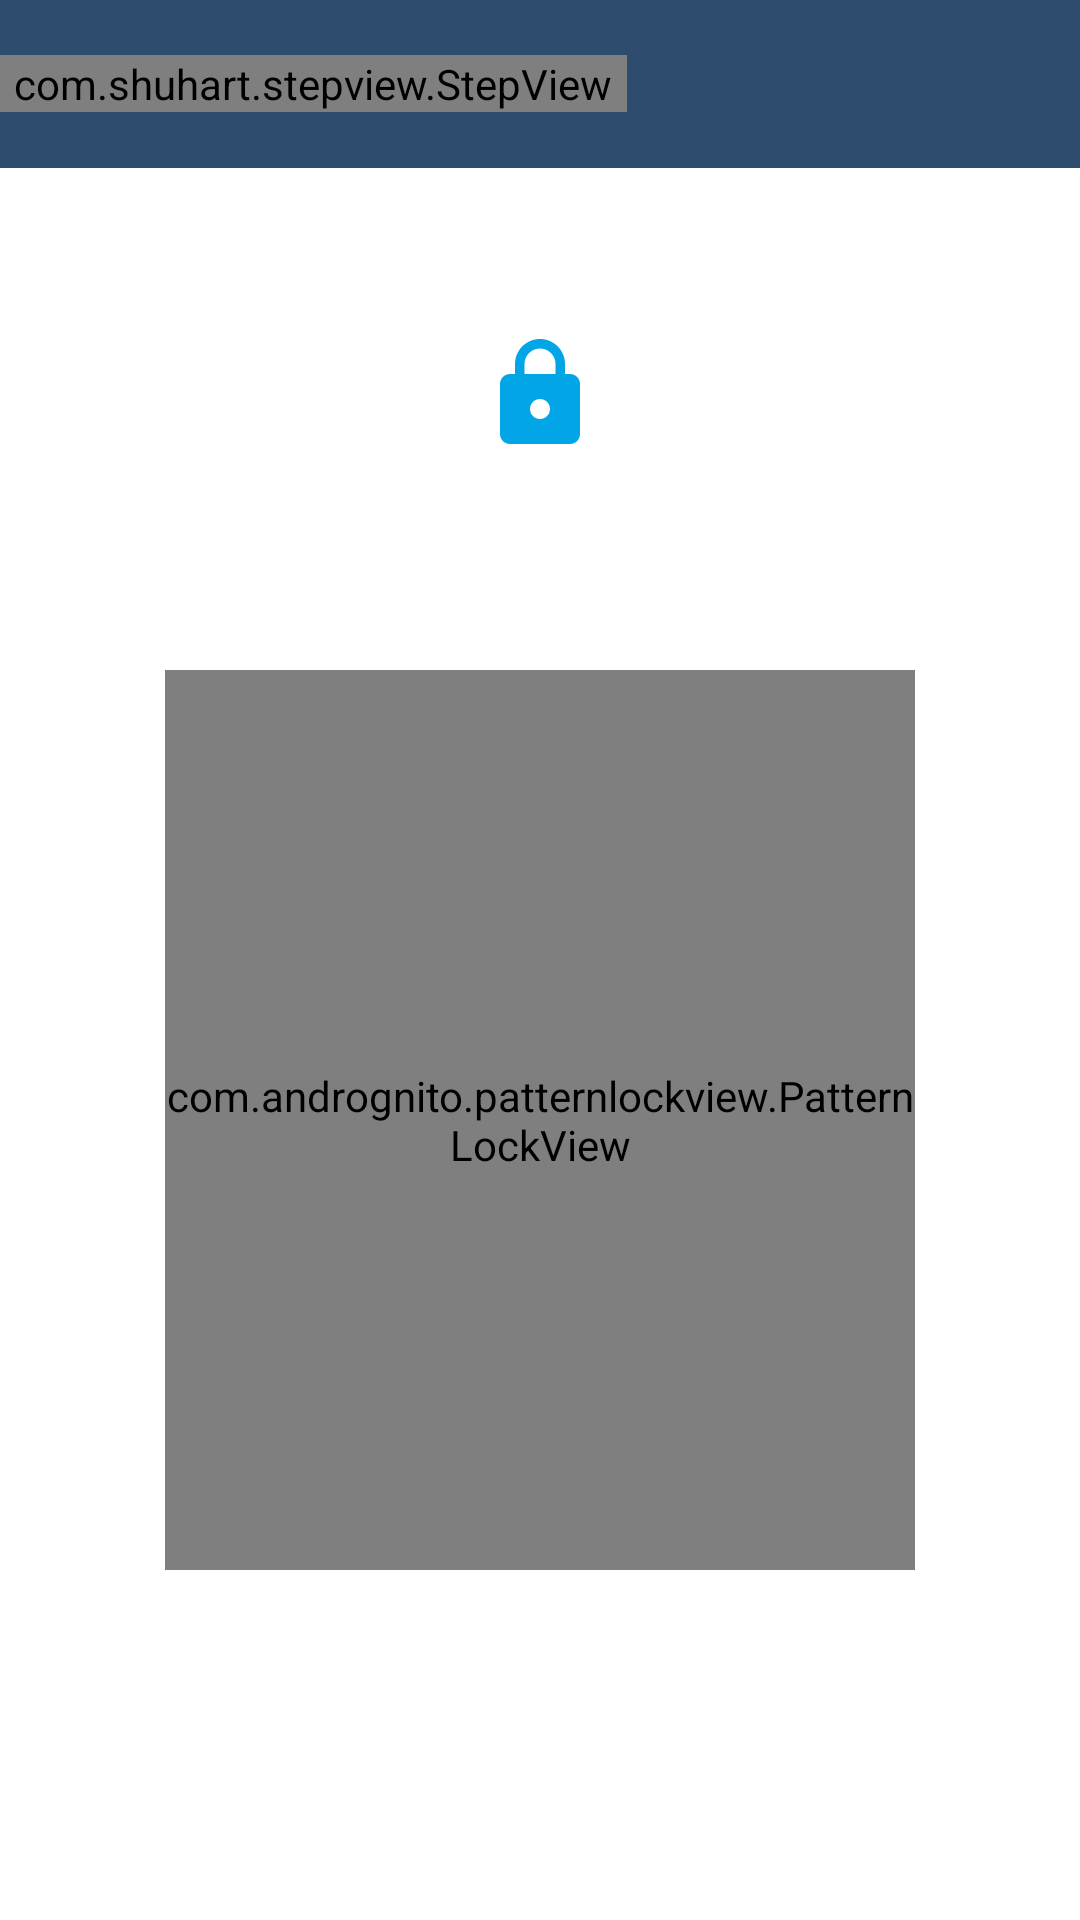

Where to tap for icons on this 1080px x 1920px app screen, as (x,y):
lock: (540,391)
